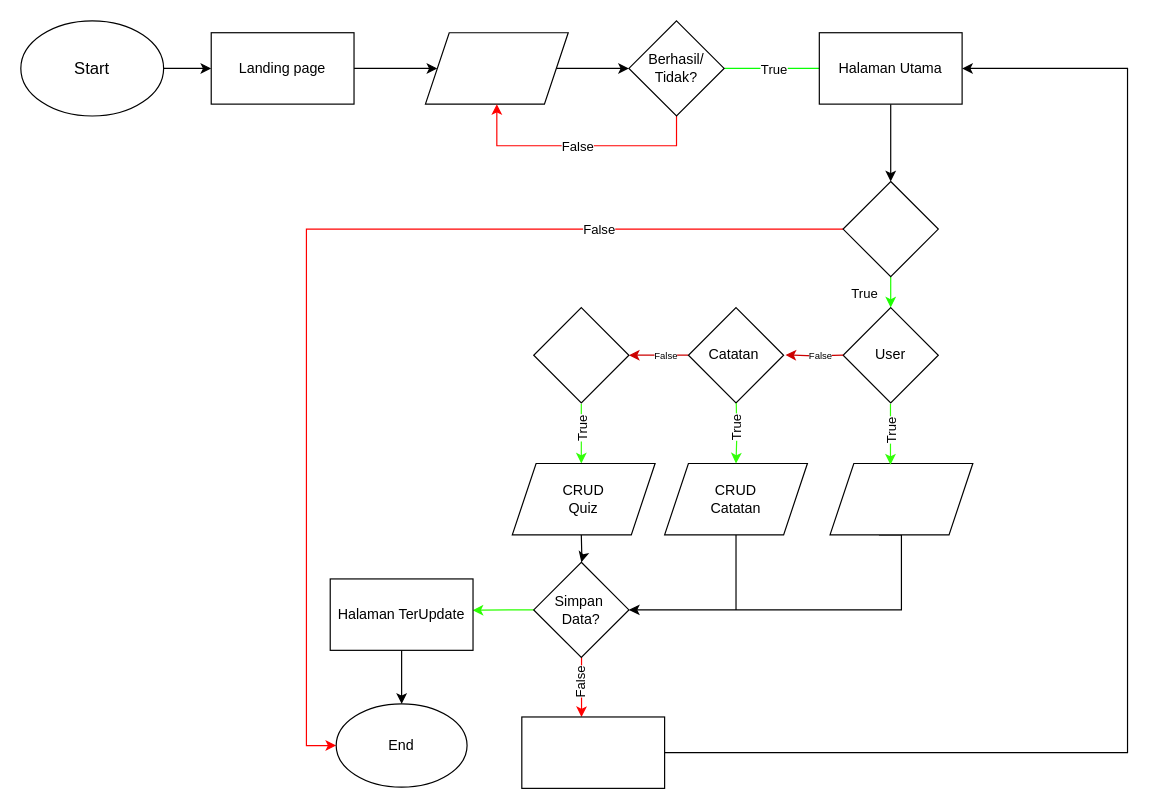
Some shapes in this 1158 by 809 pixel diagram are drawn without their labels. The shapes that lost their labels are listed below. From the top down, each one's centre as x and y in pixels, then its label:
the point at 496,68: Login
the point at 890,228: Pilih Fitur?
the point at 581,354: Latihan Soal
the point at 901,498: CRUD User
the point at 593,752: Memunculkan Alert
